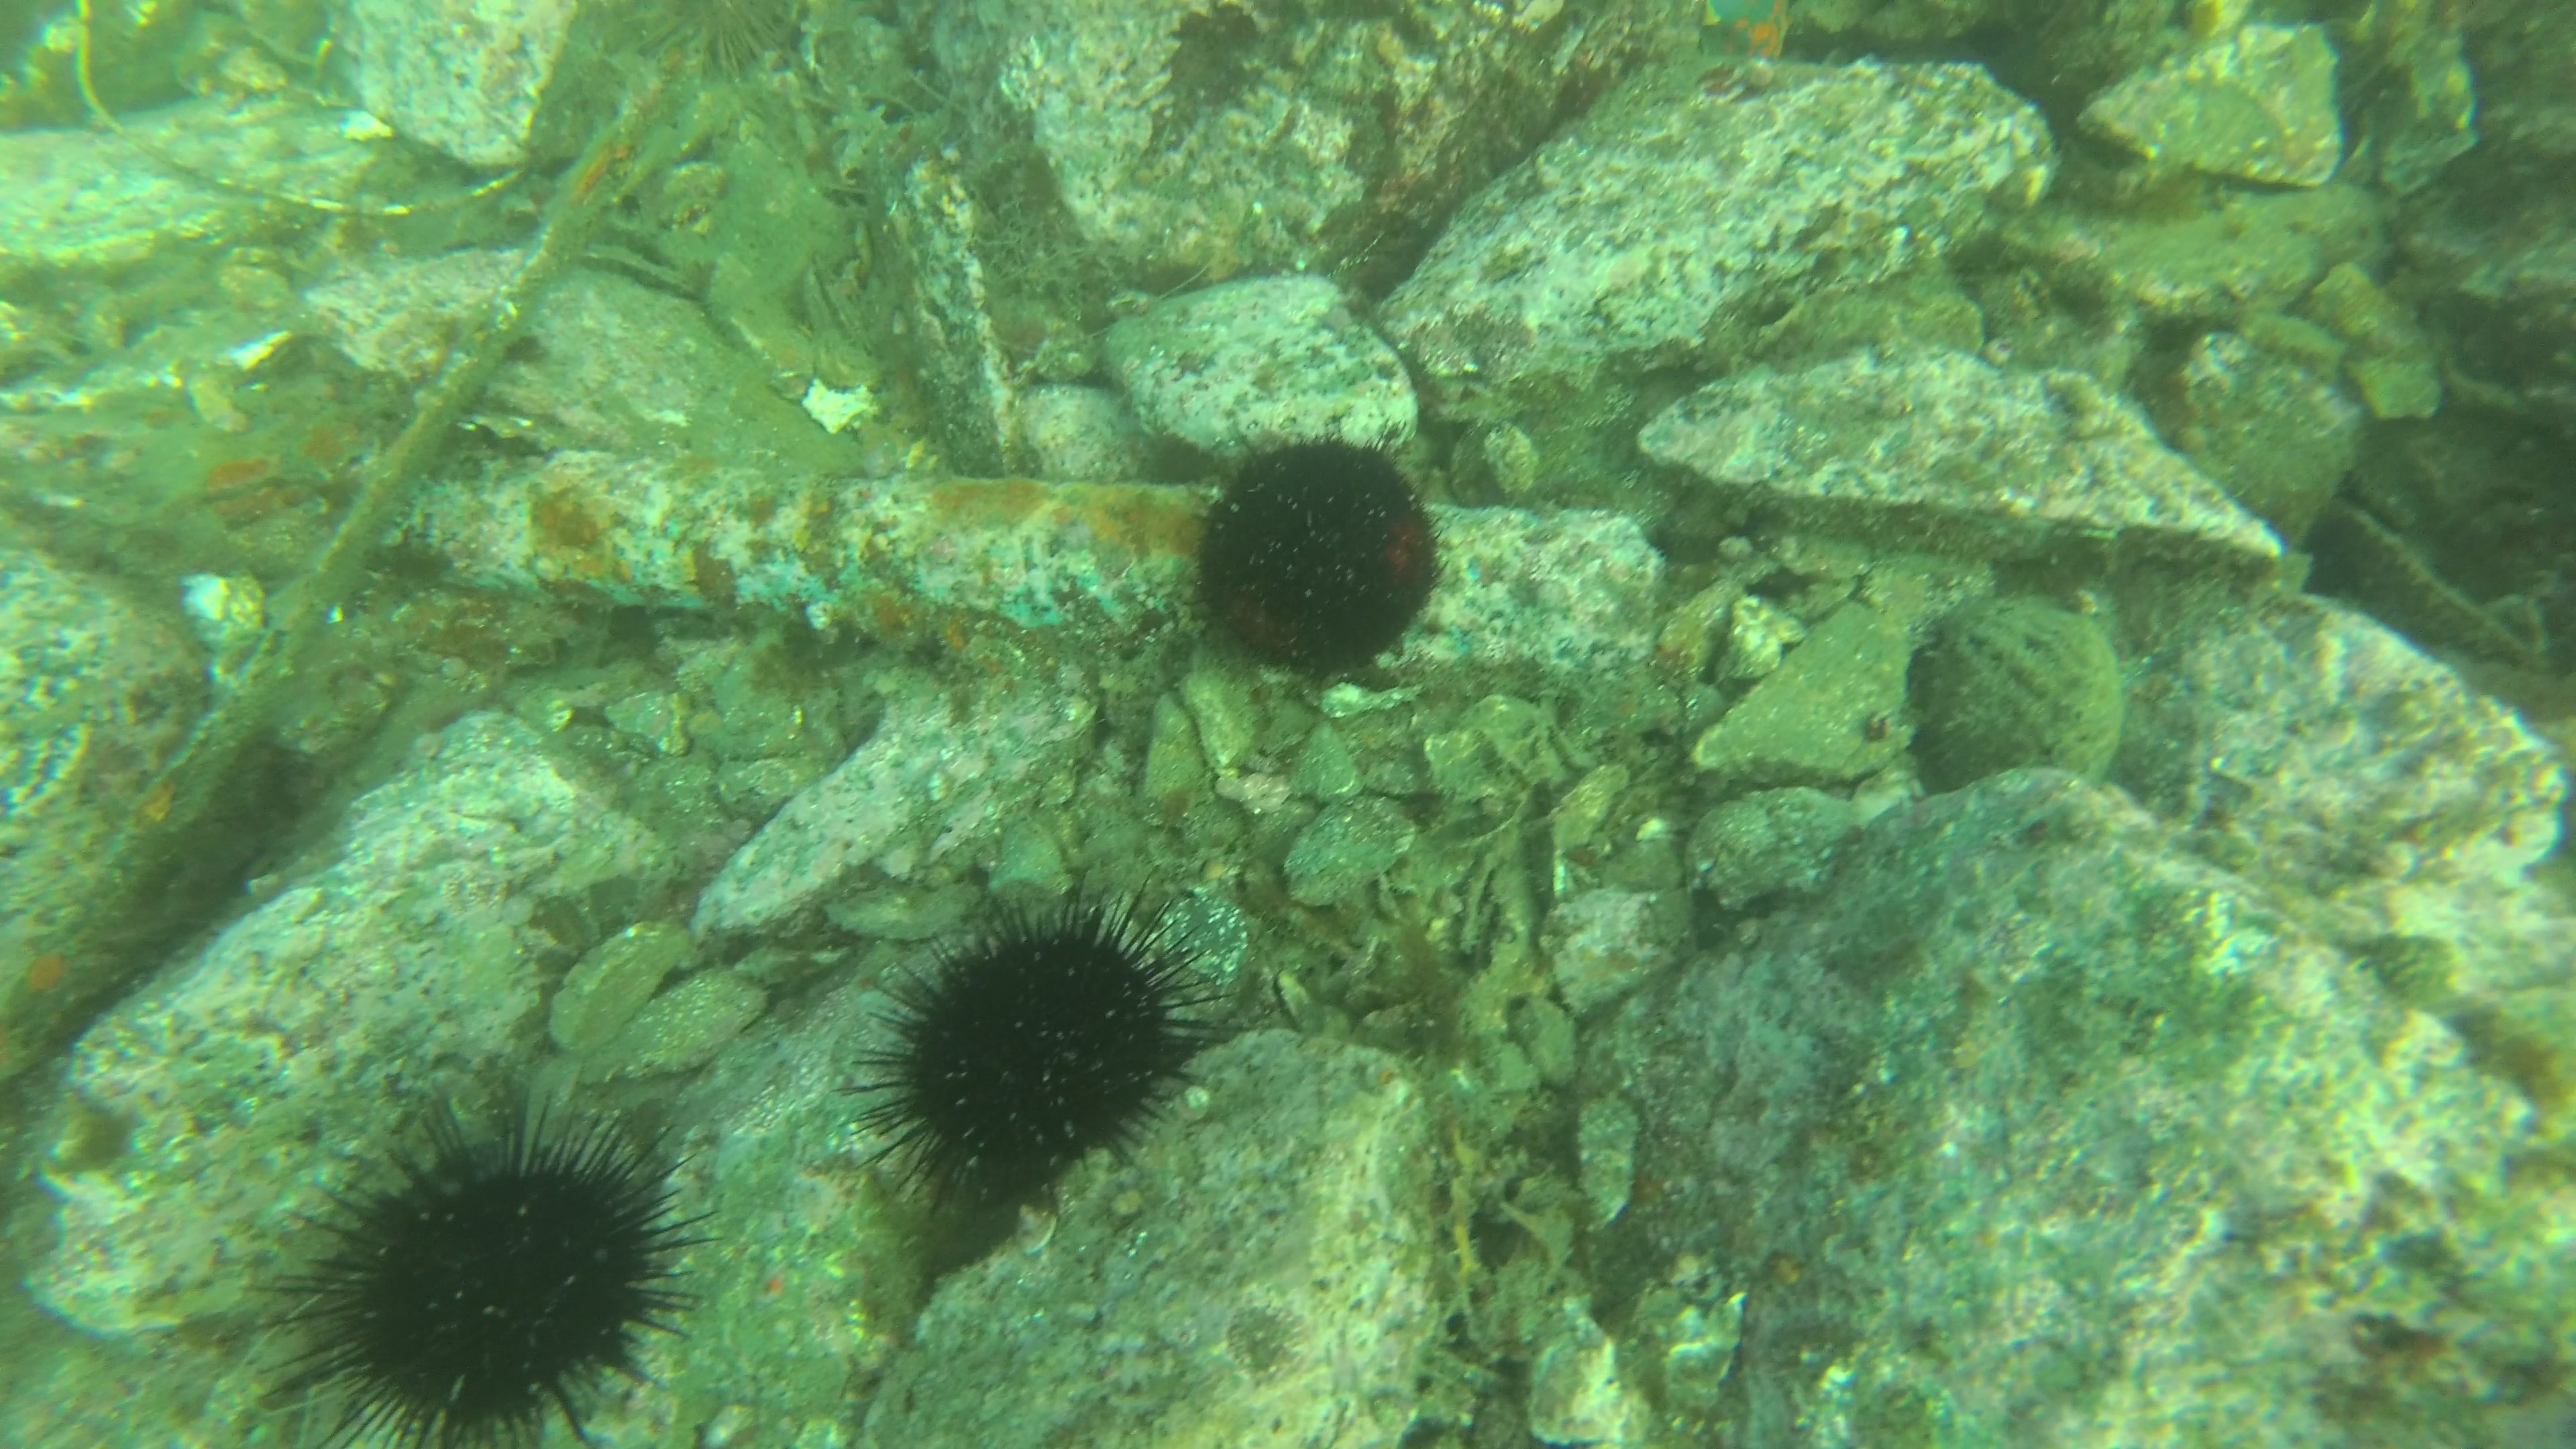echinus: (269, 1086, 713, 1449), (840, 897, 1207, 1215), (1178, 419, 1445, 694)
starfish: (1690, 0, 1805, 64)
